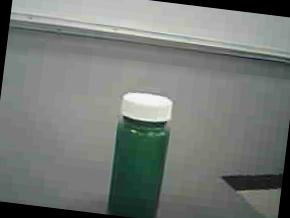Bottle C: (93, 83, 184, 218)
